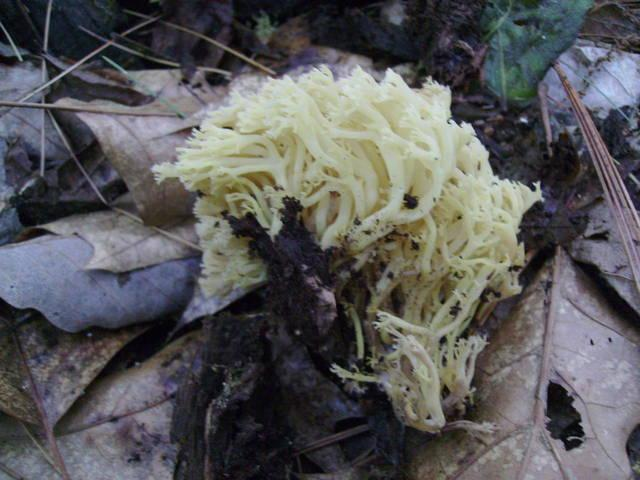Edible Mushroom: (153, 61, 544, 434)
